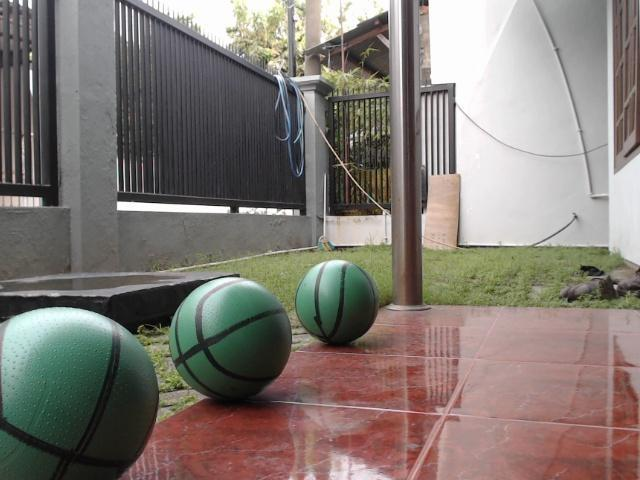Sports-Ball: (1, 304, 159, 480), (170, 274, 294, 410), (294, 261, 380, 344)
